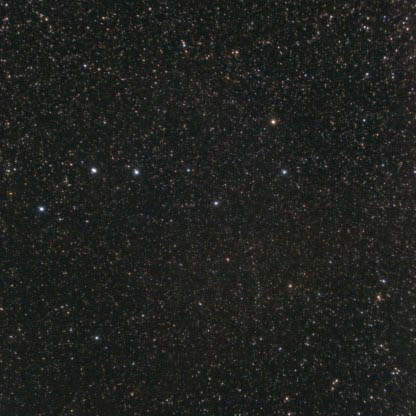Ursa Major: (29, 196, 59, 223), (82, 158, 106, 187), (265, 106, 290, 132), (123, 160, 149, 184), (206, 190, 230, 216), (272, 161, 294, 186), (178, 158, 197, 185)
